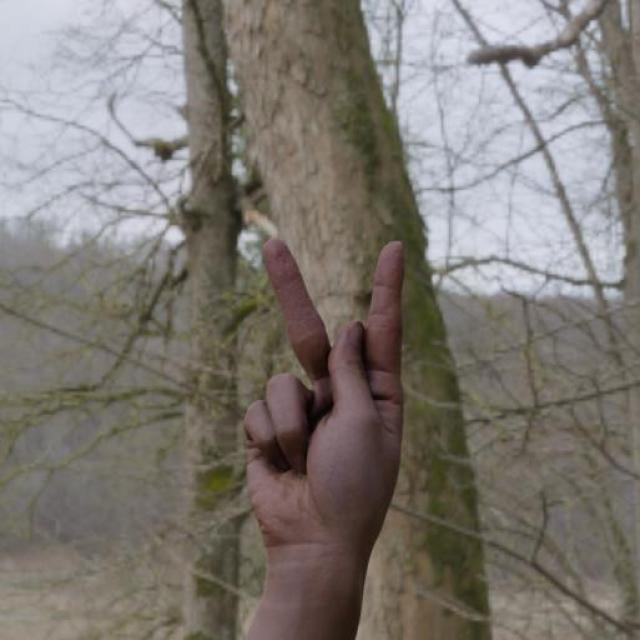K: (238, 236, 407, 570)
